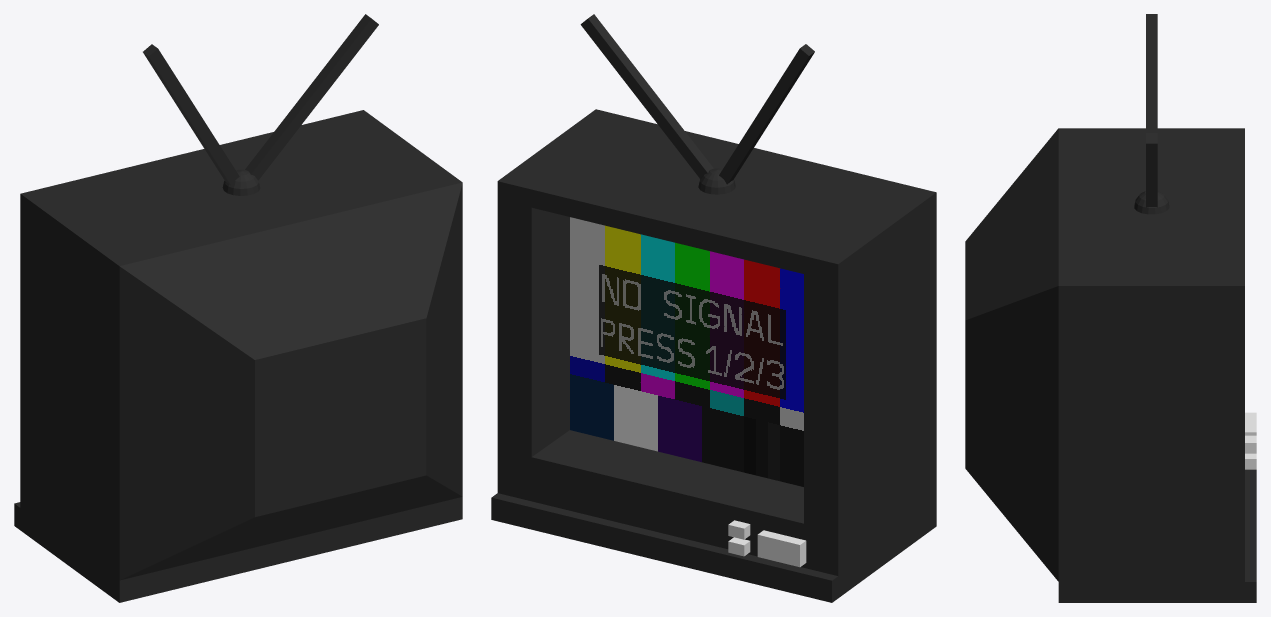
The model's file is PlainTV.gltf.
3 renders of one model, left to right at view 1: azimuth 30°, elevation 25°; view 2: azimuth 150°, elevation 25°; view 3: azimuth 270°, elevation 25°, orthographic. The views are drawn at different scales.
Parts seen in each view (by area): view 1: cuboid; view 2: cuboid; view 3: cuboid.
Boxes of the visible parts, left/top/right/bottom form: cuboid: left=14, top=14, right=462, bottom=602; cuboid: left=491, top=14, right=936, bottom=602; cuboid: left=965, top=14, right=1256, bottom=602.
Bounding box in the file's own units: 2 × 2.78 × 1.56.
Materials: 1 (1 with a texture image).
